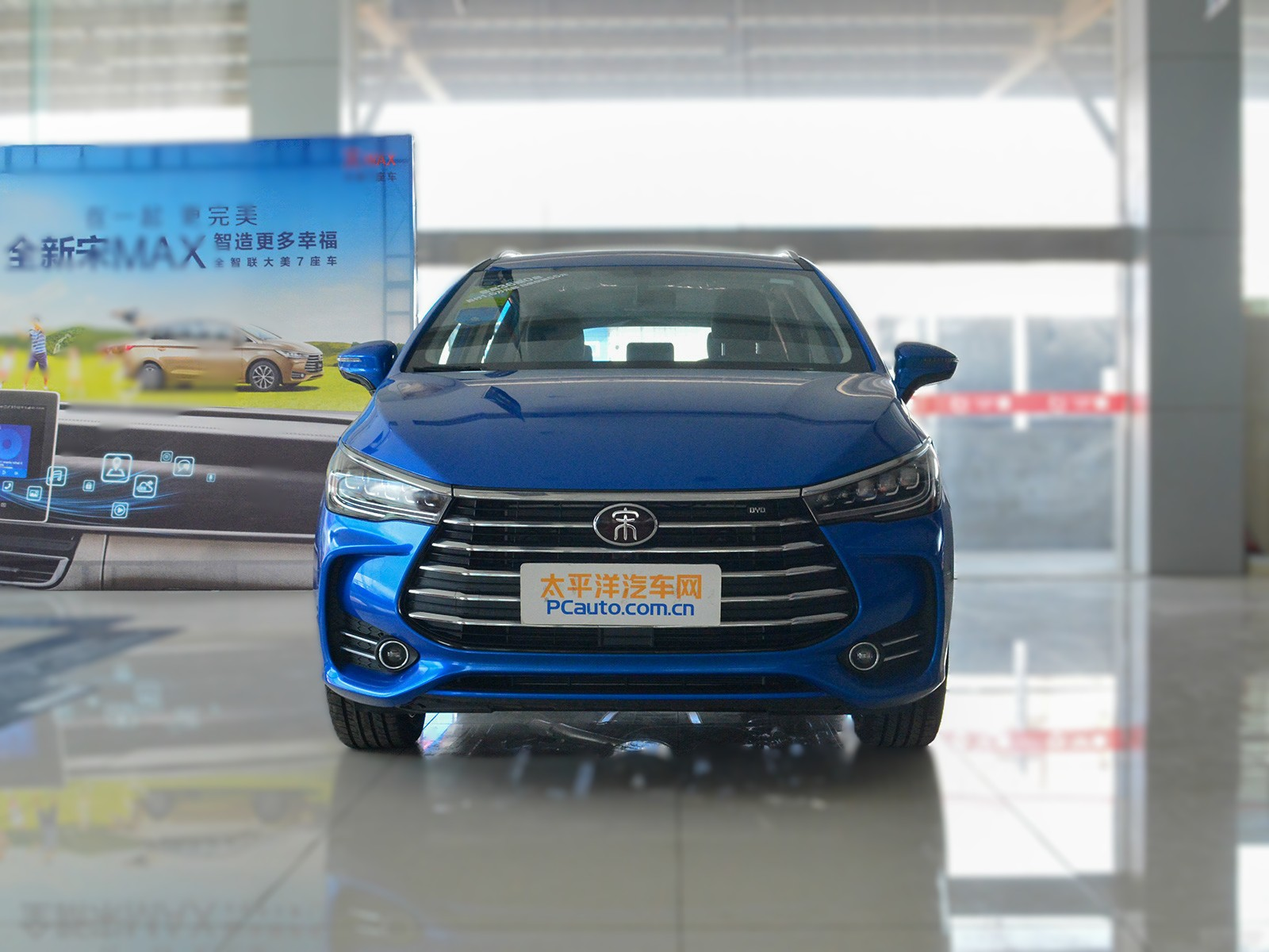BYD Song: (594, 504, 658, 545)
